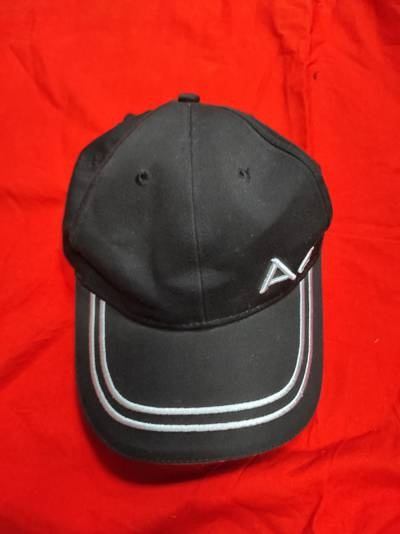Hat: (39, 81, 352, 481)
